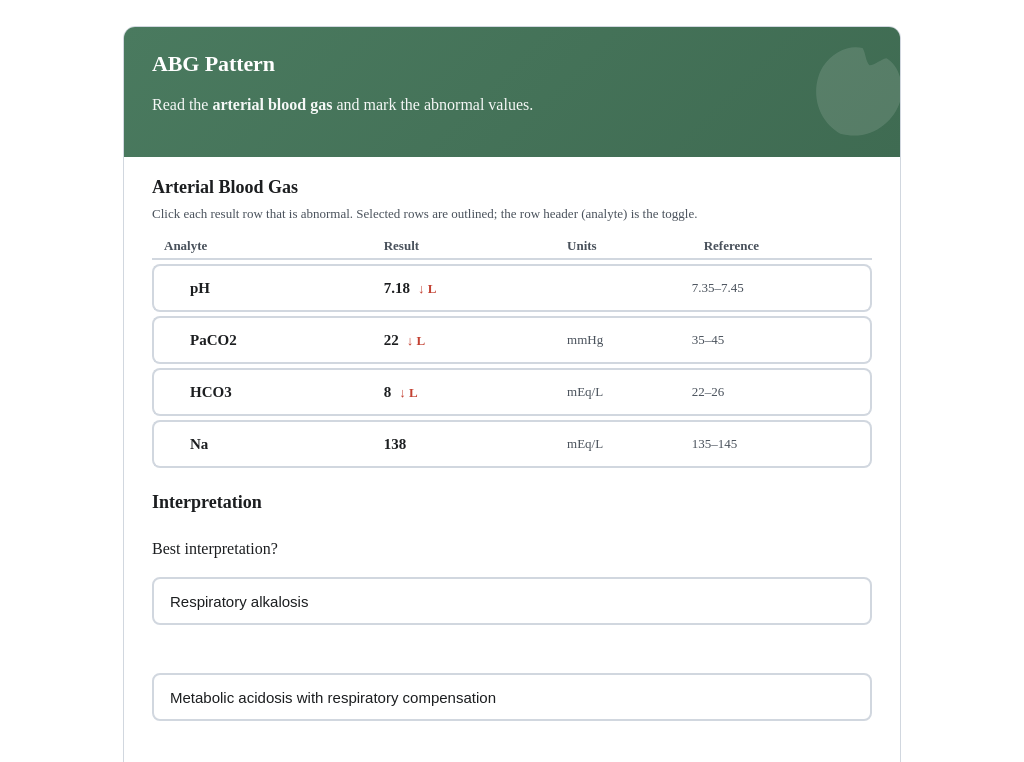
Test: LabPanel › scores 1 point per correctly classified row + 1 for the right interpretation
The width and height of the screenshot is (1024, 762).
Click the button with aria-label "toggle ph," at (263, 288), box x1=154 y1=266 x2=372 y2=310
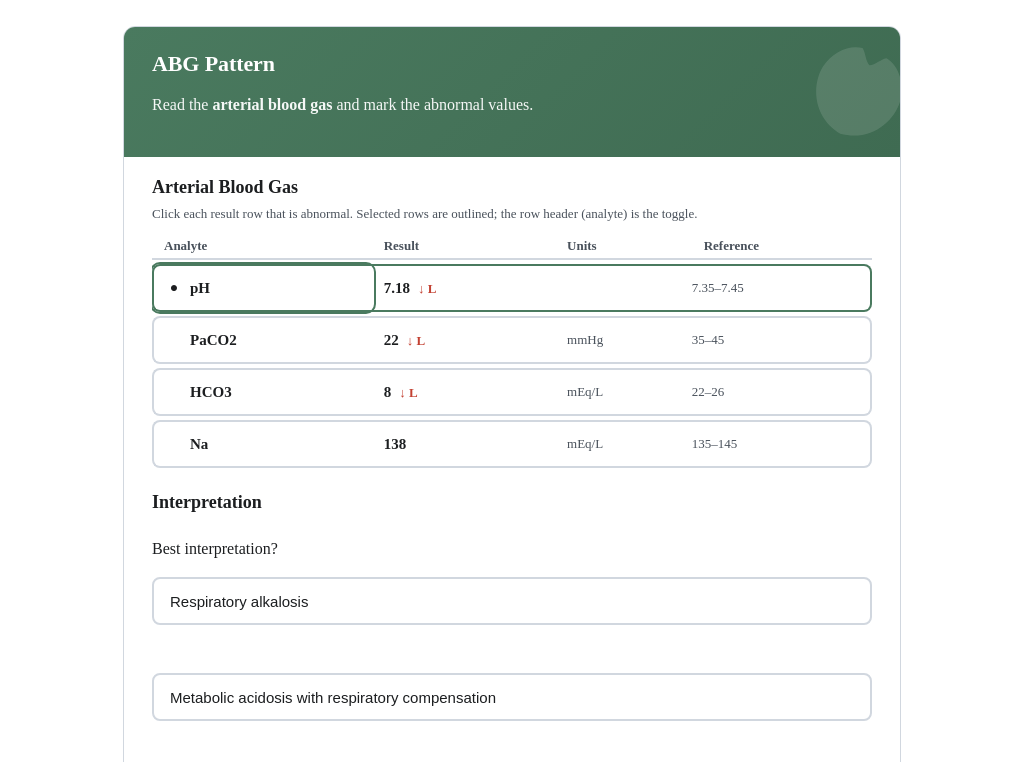
Click the button with aria-label "toggle paco2," at (263, 340), box x1=154 y1=318 x2=372 y2=362
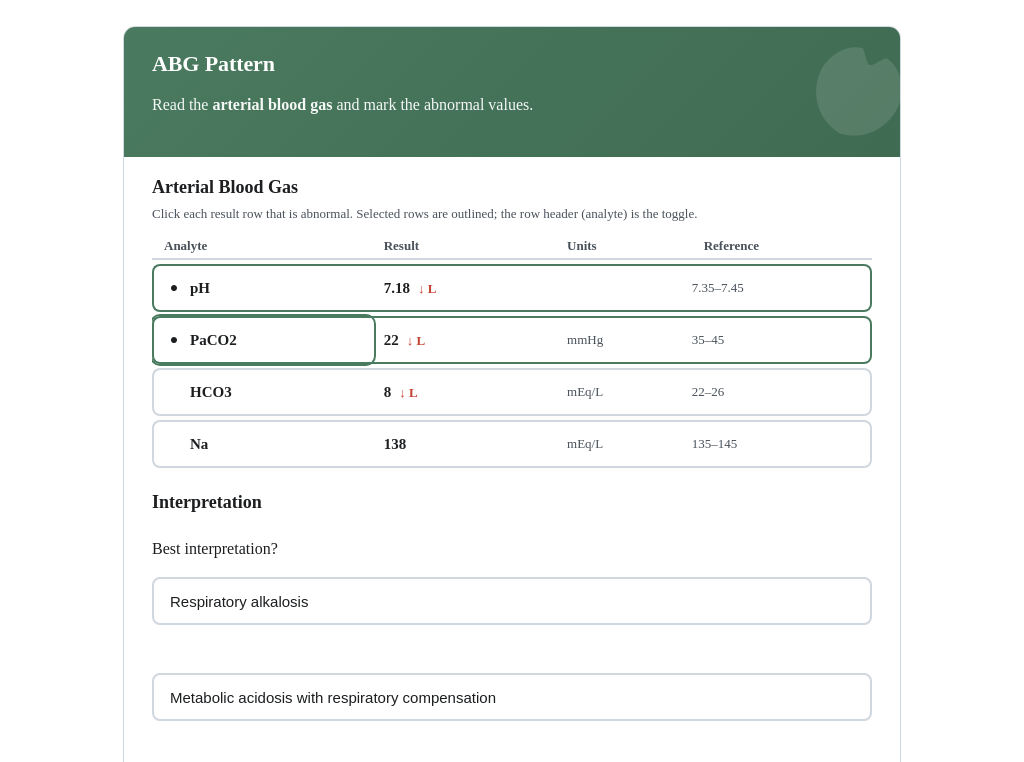
Click the button with aria-label "toggle hco3," at (263, 392), box x1=154 y1=370 x2=372 y2=414
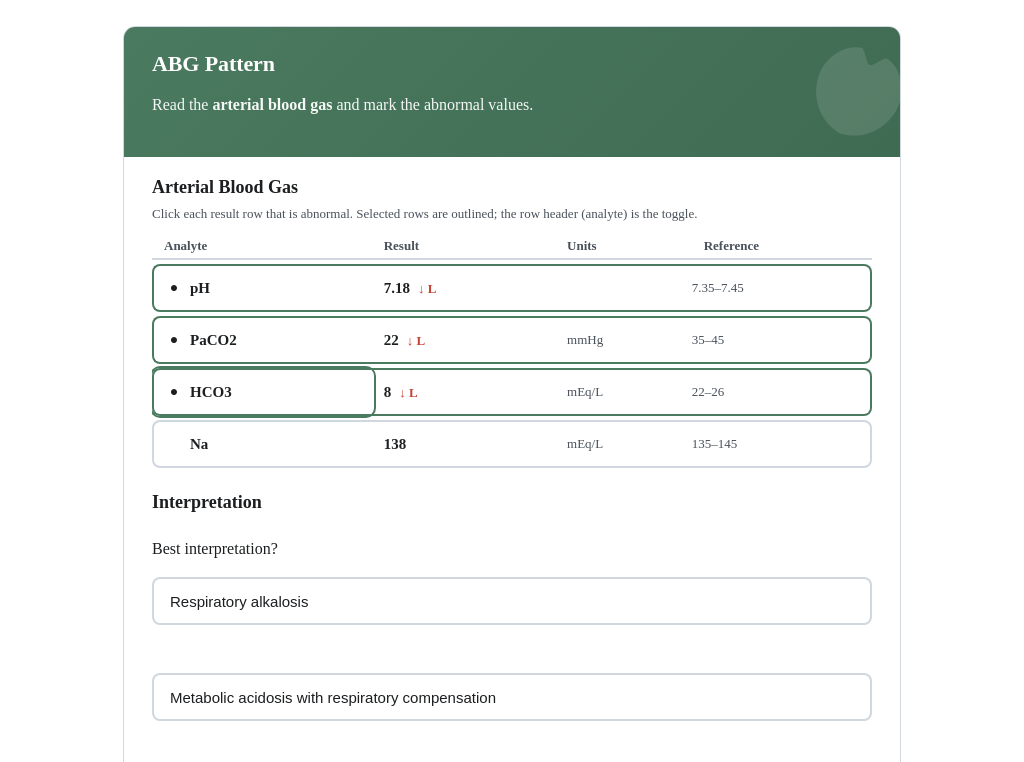
# Pick the correct interpretation.
Click the button "Metabolic acidosis with respiratory compensation" at (333, 697), box x1=152 y1=673 x2=872 y2=721
(page scrolled)
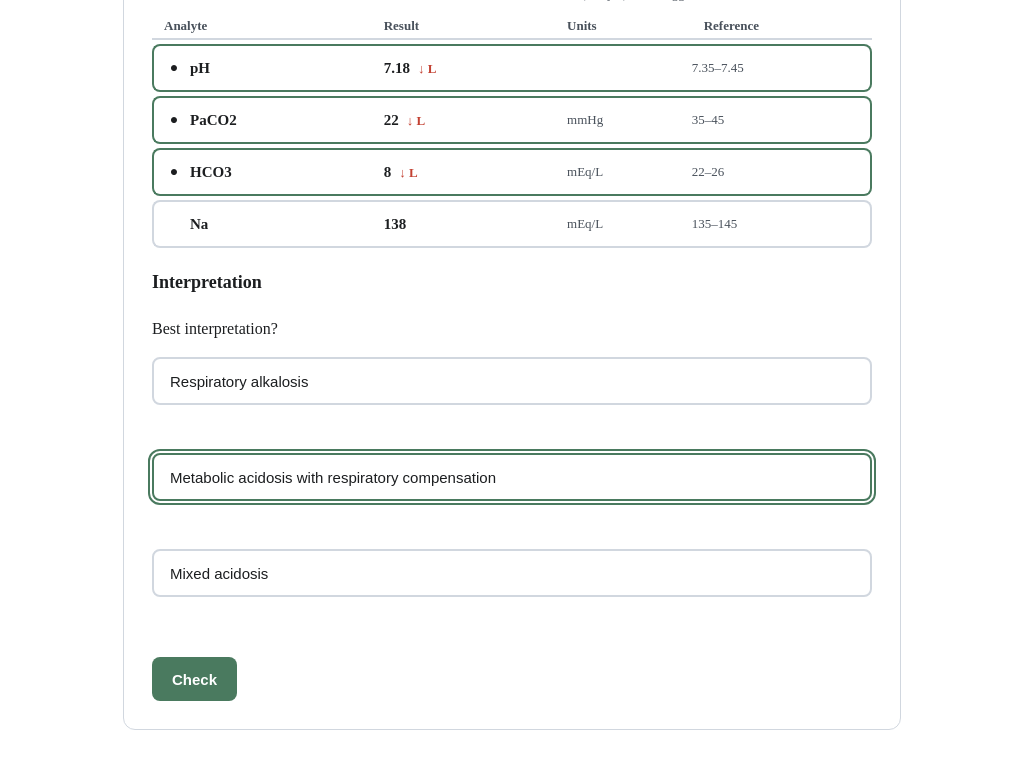
Click the button "Check" at (194, 679), box x1=152 y1=657 x2=237 y2=701
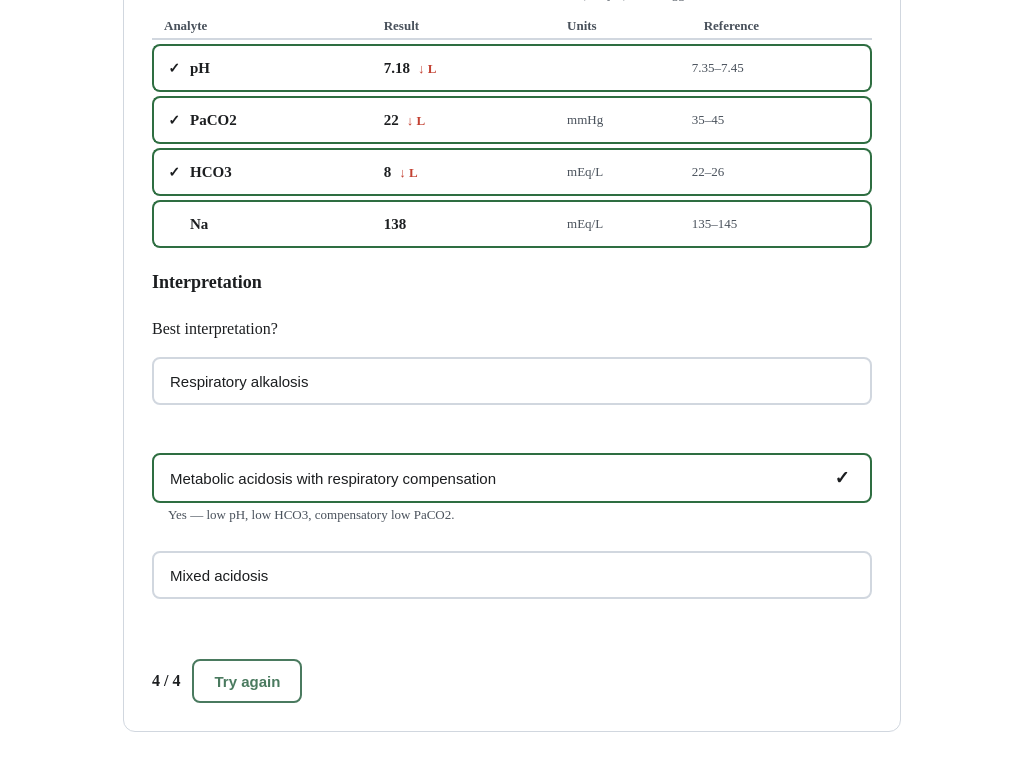
Now the text "Yes — low pH, low HCO3, compensatory low PaCO2." is shown, box x1=168 y1=507 x2=454 y2=522
